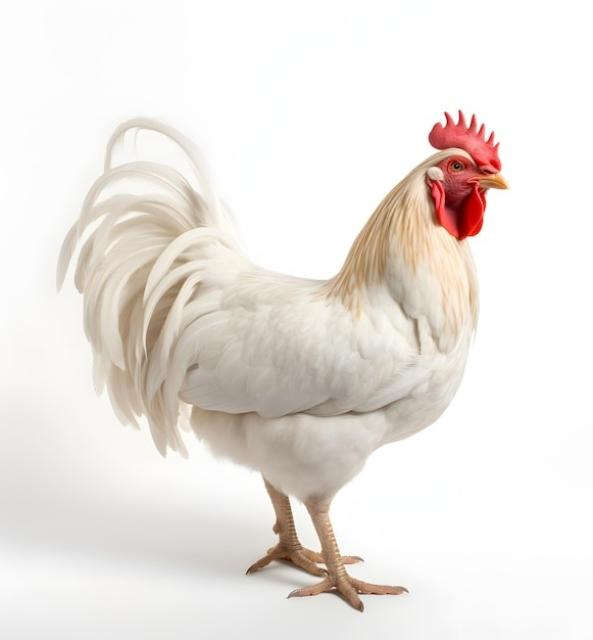Chicken: (56, 107, 510, 612)
